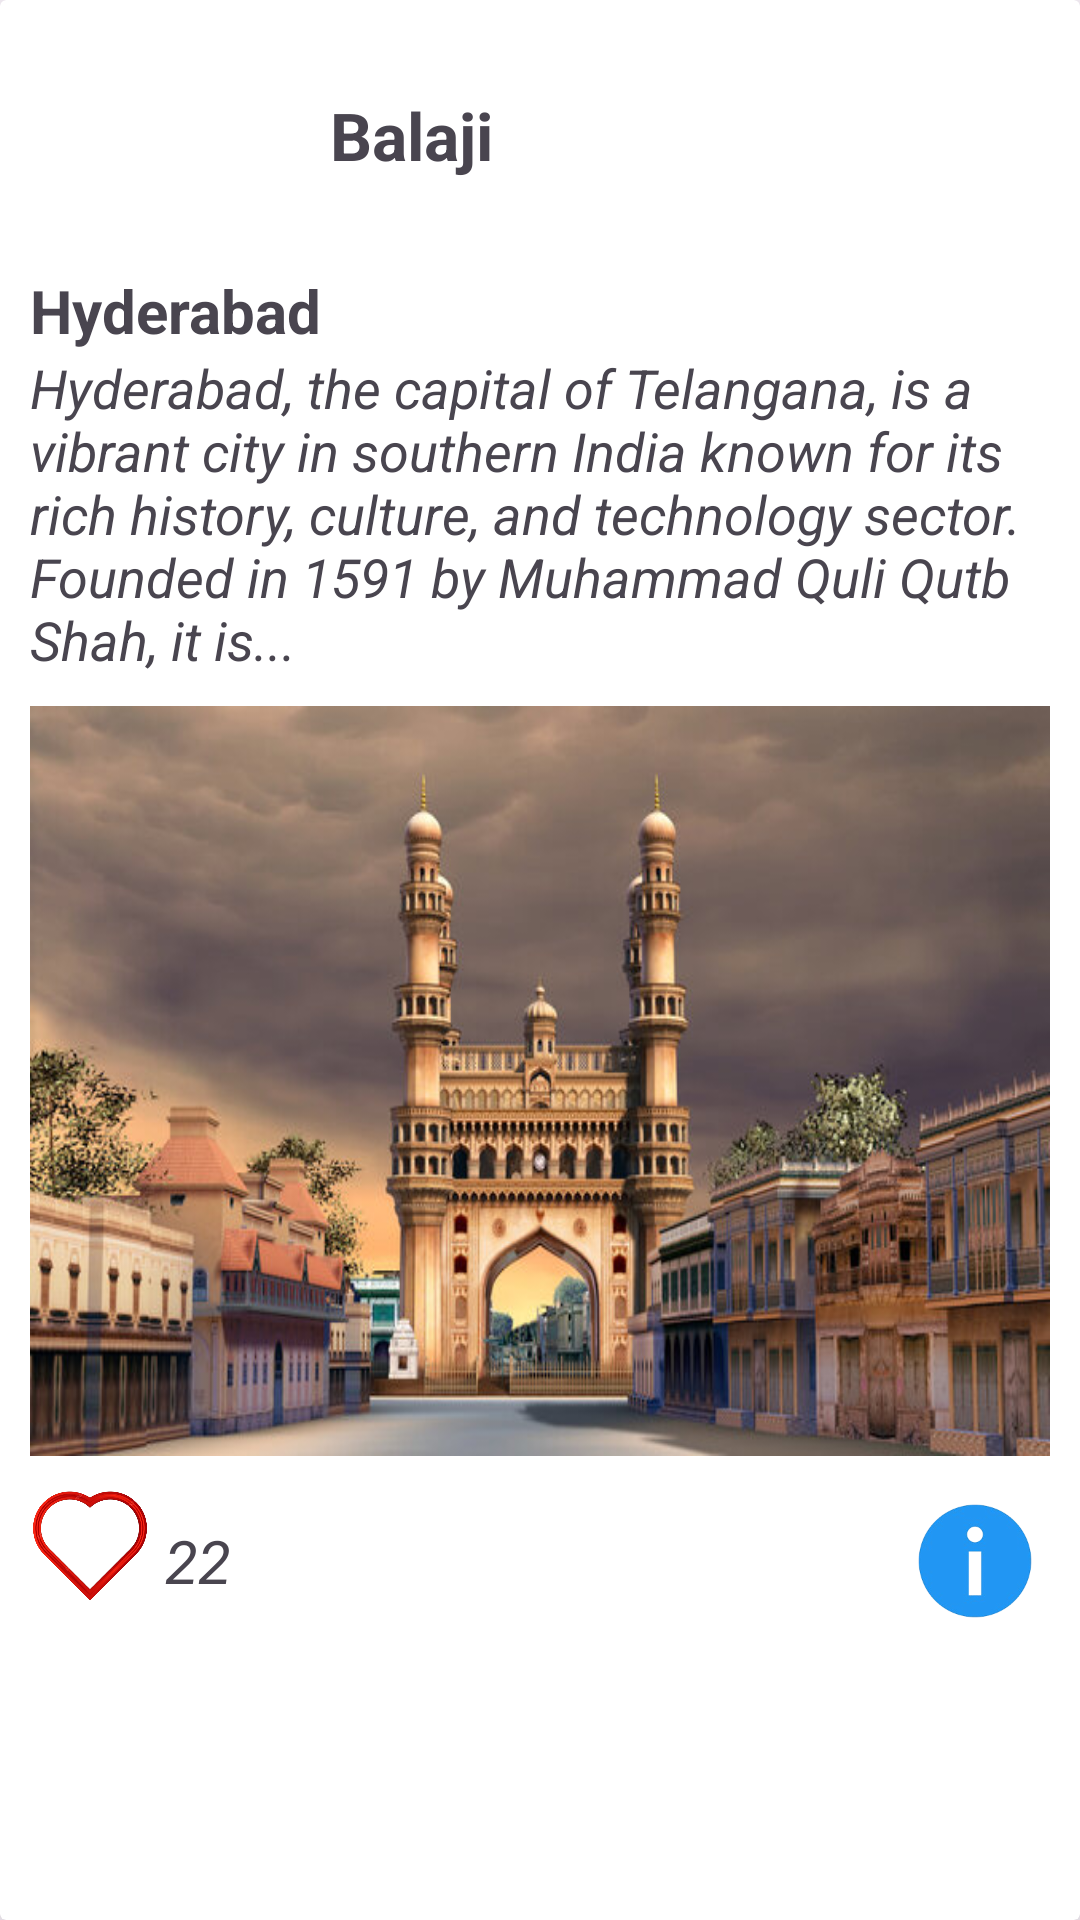

Icons on this 1080 × 1920 Android screen, each with its box as box(x1, y1, x2, y2):
like before click: box(33, 1491, 147, 1600)
